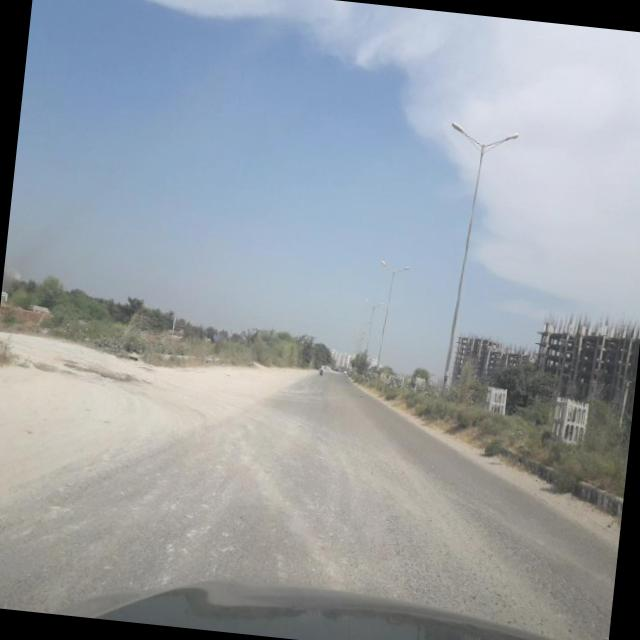crack: (360, 458, 615, 625)
